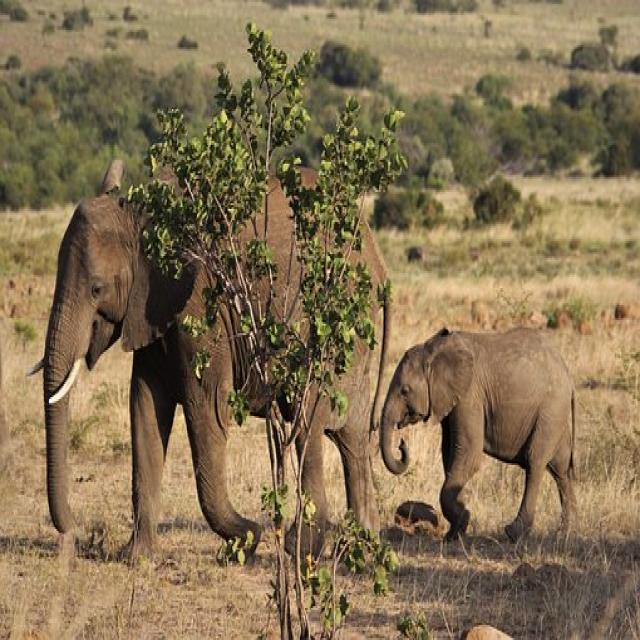Elephant: (22, 76, 396, 608), (376, 305, 590, 558)
